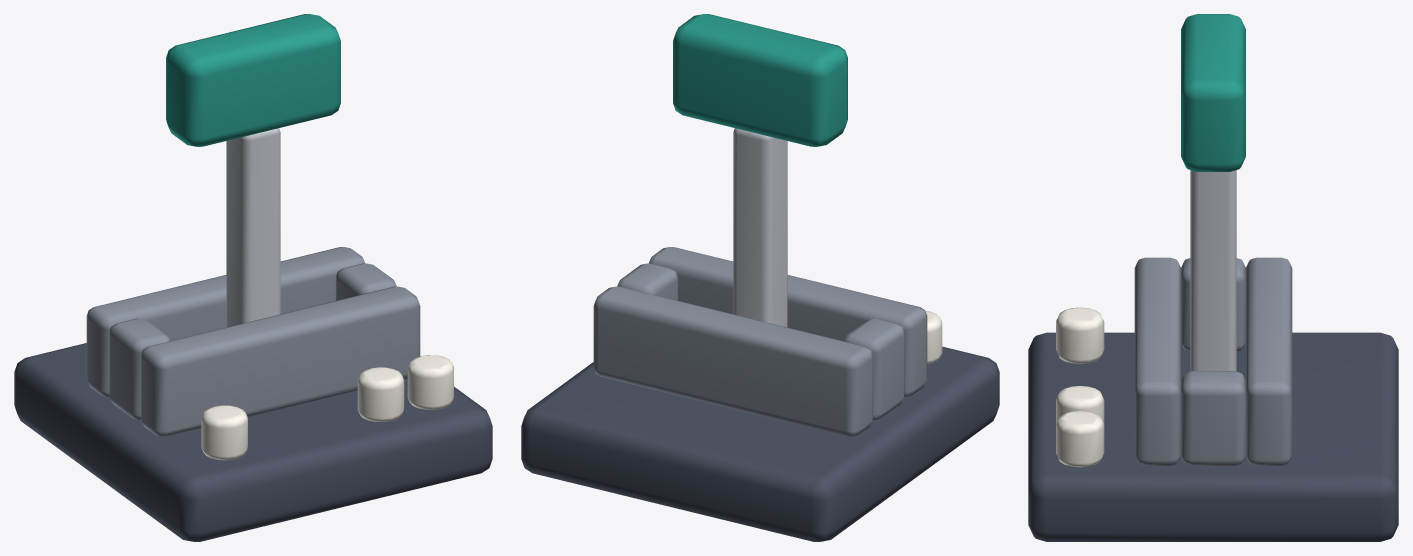
The model's file is Ctrl_RouteLever.fbx.
3 views of the same model, side by side, from view 1: azimuth 30°, elevation 25°; view 2: azimuth 150°, elevation 25°; view 3: azimuth 270°, elevation 25° (orthographic). The views are drawn at different scales.
Parts seen in each view (by area): view 1: Ctrl_RouteLever.Base, Ctrl_RouteLever.Guide, Ctrl_RouteLever.Move_Lever, Ctrl_RouteLever.Marks; view 2: Ctrl_RouteLever.Base, Ctrl_RouteLever.Guide, Ctrl_RouteLever.Move_Lever, Ctrl_RouteLever.Marks; view 3: Ctrl_RouteLever.Base, Ctrl_RouteLever.Guide, Ctrl_RouteLever.Move_Lever, Ctrl_RouteLever.Marks.
Part boxes in pixels (x1=…): Ctrl_RouteLever.Base: x1=14, y1=343, x2=492, y2=541; Ctrl_RouteLever.Guide: x1=86, y1=247, x2=420, y2=436; Ctrl_RouteLever.Move_Lever: x1=166, y1=14, x2=340, y2=327; Ctrl_RouteLever.Marks: x1=201, y1=355, x2=453, y2=460; Ctrl_RouteLever.Base: x1=521, y1=346, x2=999, y2=541; Ctrl_RouteLever.Guide: x1=593, y1=247, x2=927, y2=436; Ctrl_RouteLever.Move_Lever: x1=673, y1=14, x2=847, y2=327; Ctrl_RouteLever.Marks: x1=925, y1=311, x2=942, y2=364; Ctrl_RouteLever.Base: x1=1028, y1=332, x2=1398, y2=541; Ctrl_RouteLever.Guide: x1=1134, y1=257, x2=1292, y2=465; Ctrl_RouteLever.Move_Lever: x1=1181, y1=14, x2=1245, y2=371; Ctrl_RouteLever.Marks: x1=1056, y1=307, x2=1104, y2=467.
Size of the model in its own units: 0.2 by 0.2525 by 0.2.
Materials: 1 (1 with a texture image).
